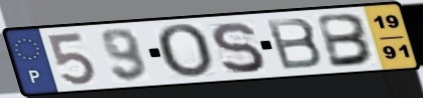5: (44, 30, 98, 87)
9: (99, 27, 150, 84)
B: (314, 12, 377, 70), (263, 16, 326, 72)
O: (154, 22, 217, 80)
S: (208, 20, 268, 76)
